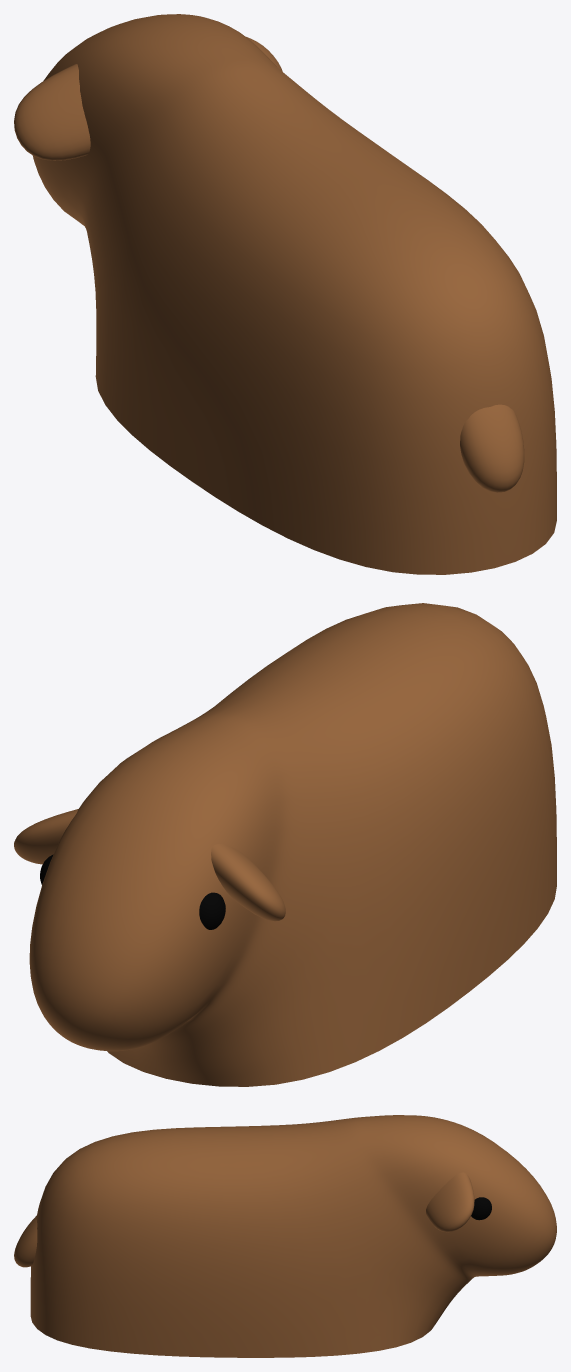
Rendered from Meerschweinchen_Modell.dae.
3 views of the same model, one above another, from view 1: azimuth 30°, elevation 25°; view 2: azimuth 150°, elevation 25°; view 3: azimuth 270°, elevation 25° (orthographic). The views are drawn at different scales.
Parts seen in each view (by area): view 1: GUINEA_PIG; view 2: GUINEA_PIG; view 3: GUINEA_PIG.
Part boxes in pixels (x1,y1,x2,y2): GUINEA_PIG: (14, 14, 556, 574); GUINEA_PIG: (14, 603, 556, 1086); GUINEA_PIG: (14, 1115, 556, 1357).
Bounding box in the file's own units: 1.88 × 5.12 × 2.03.
